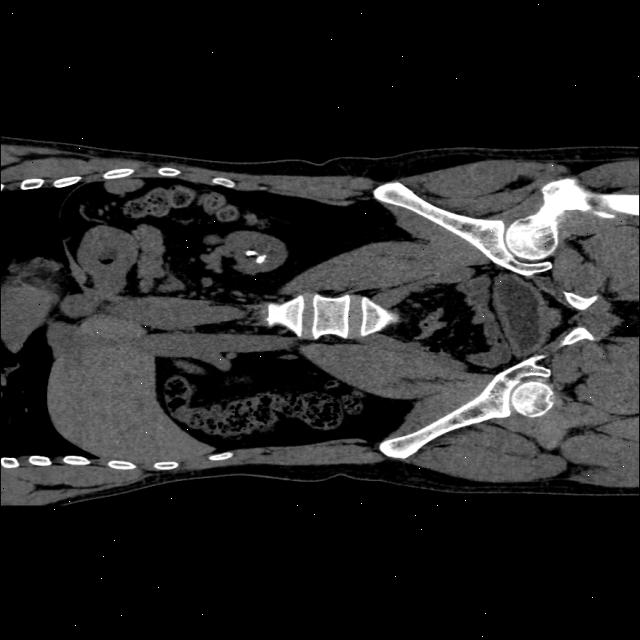kidneystone: (245, 249, 266, 262), (245, 249, 259, 255)
